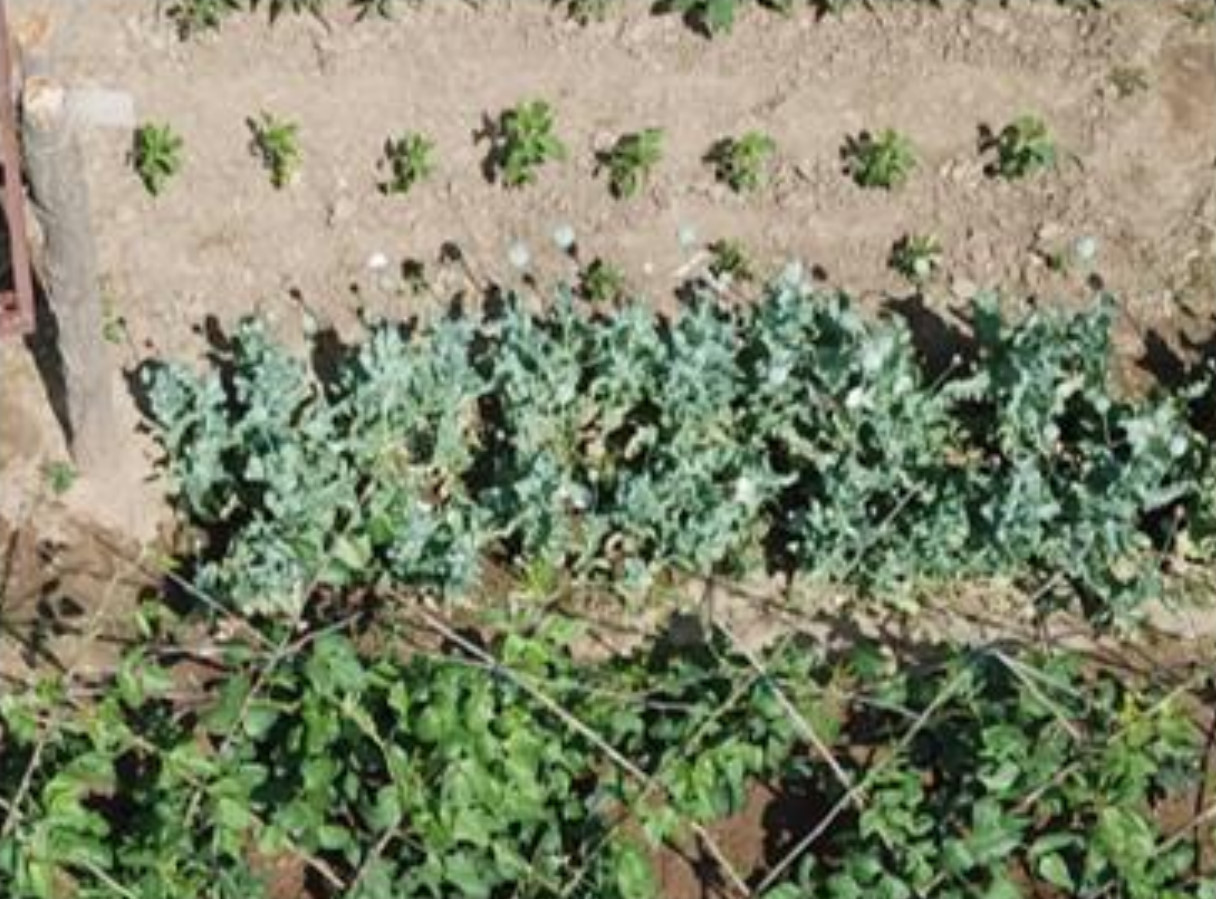Poppy: (117, 219, 1202, 606)
